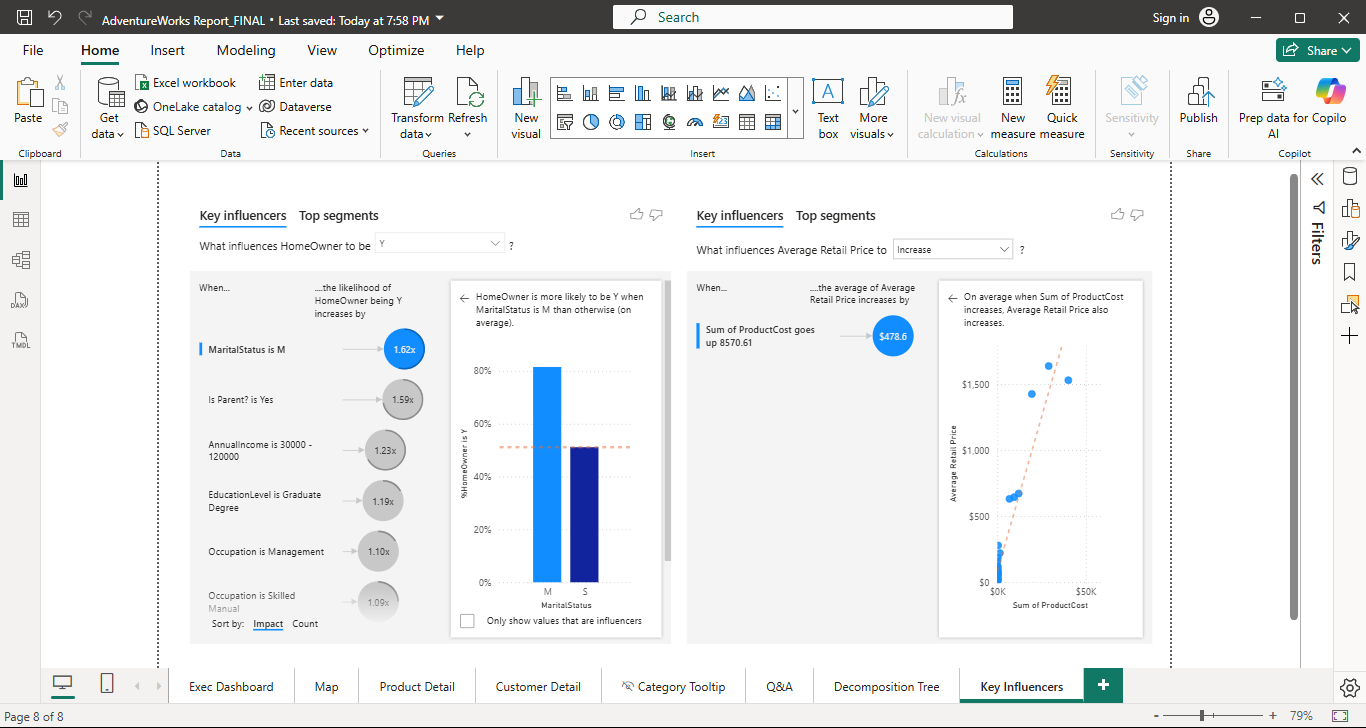

The dashboard page shown, as its layout file describes it:
{"tool":"powerbi","page":{"name":"Key Influencers","canvas":[1280,720],"ordinal":7},"visuals":[{"type":"keyDriversVisual","fields":{"ExplainBy":["Customer Lookup.AnnualIncome","Customer Lookup.EducationLevel","Customer Lookup.Is Parent?","Customer Lookup.MaritalStatus","Customer Lookup.Occupation"],"Target":["Customer Lookup.HomeOwner"]},"box":[33.9,54.3,619.4,571.9],"z":0},{"type":"keyDriversVisual","fields":{"Details":["Product Subcategories Lookup.SubcategoryName"],"ExplainBy":["Sum(Product Lookup.ProductCost)"],"Target":["Measure Table.Average Retail Price"]},"box":[663.5,54.3,599.1,571.9],"z":1000}]}

Visuals, with their boxes on the page's 1280x720 design canvas (x1, y1, x2, y2). These are canvas units, not pixel positions in the 1366x728 screenshot, which may show the page scaled, cropped or inside an application window:
keyDriversVisual - Customer Lookup.AnnualIncome x Customer Lookup.EducationLevel: (34, 54, 653, 626)
keyDriversVisual - Product Subcategories Lookup.SubcategoryName x Sum(Product Lookup.ProductCost): (664, 54, 1263, 626)
